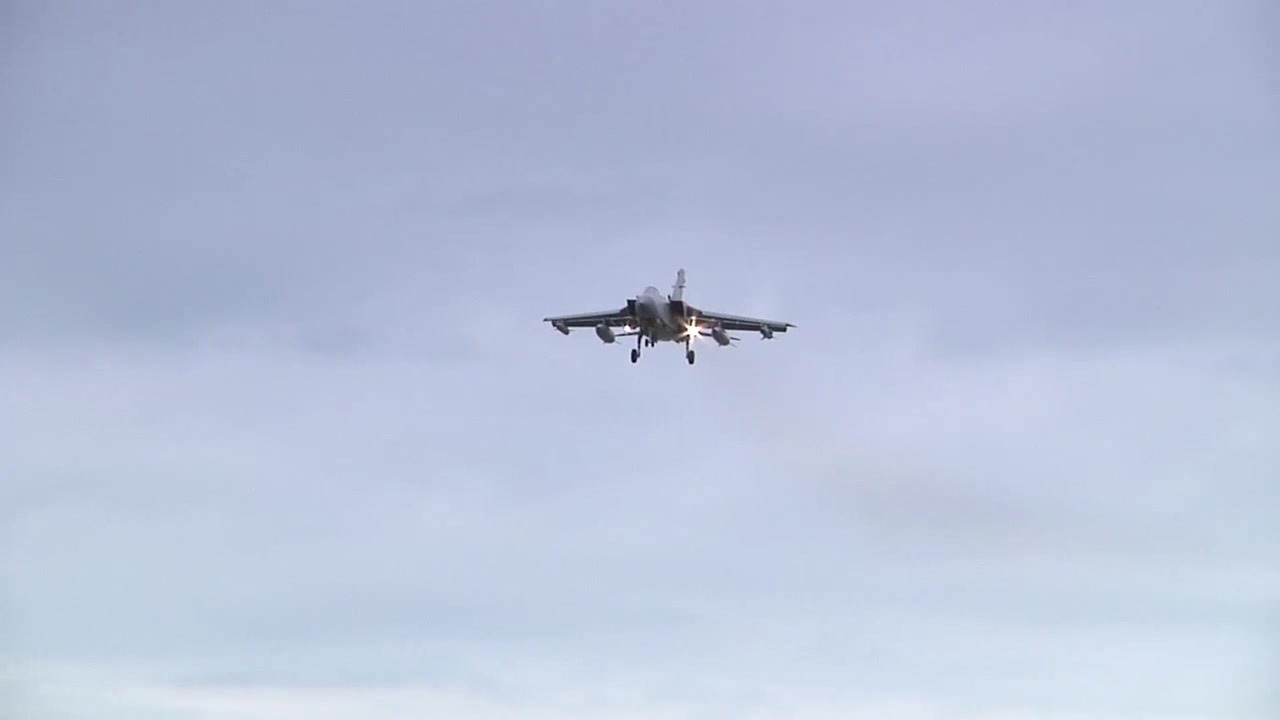aeroplane: (544, 270, 799, 365)
